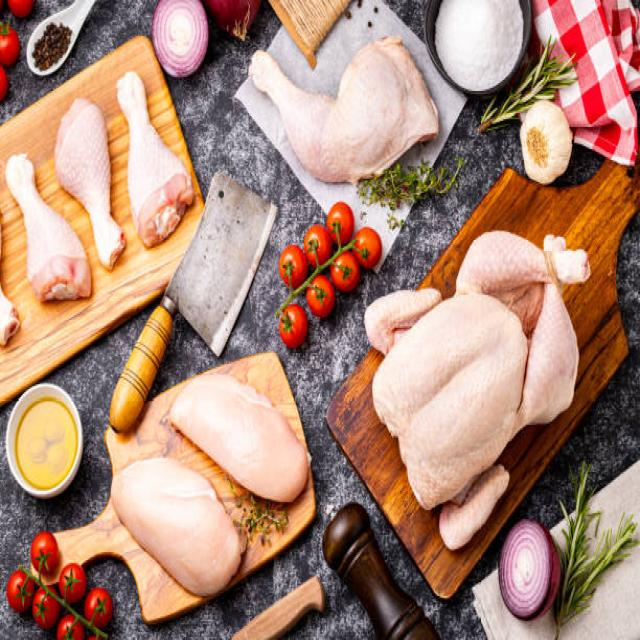Chicken: (362, 212, 600, 568)
